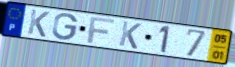1: (157, 25, 171, 55)
7: (186, 27, 208, 59)
F: (86, 16, 116, 45)
G: (51, 12, 80, 41)
K: (26, 8, 51, 39), (118, 20, 143, 51)
